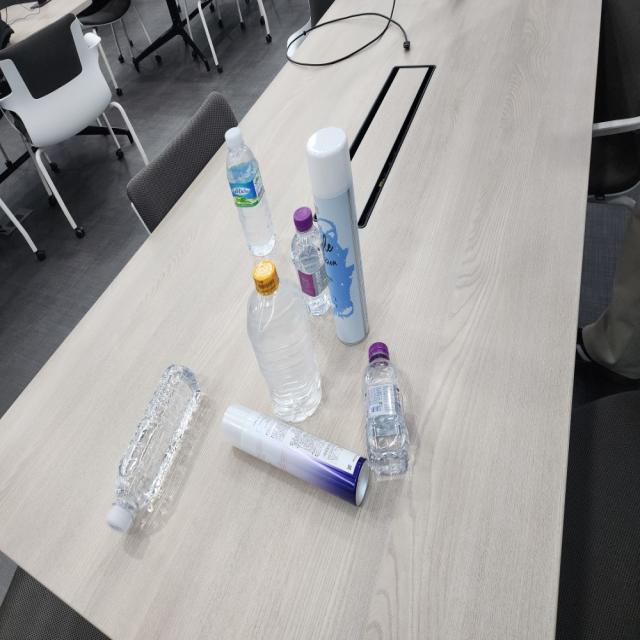spray: (224, 400, 370, 504), (307, 126, 372, 347)
water: (109, 361, 202, 535), (243, 257, 324, 423), (226, 124, 274, 254), (365, 342, 410, 478), (290, 212, 335, 323)
